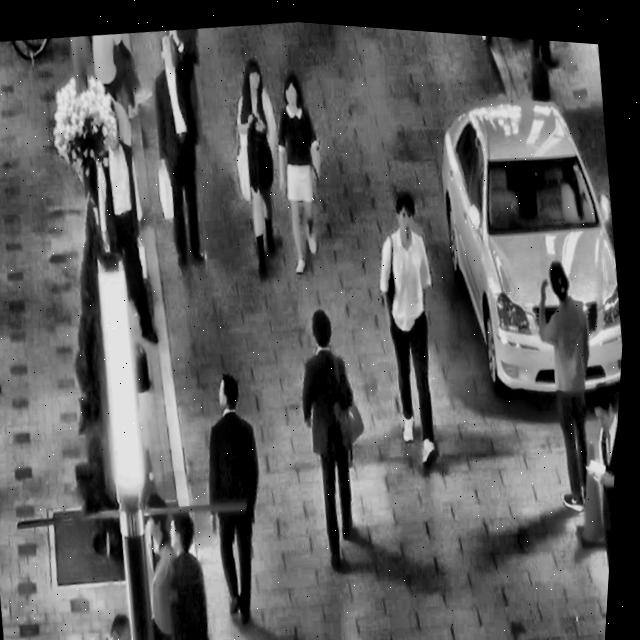light_vehicle: (414, 57, 639, 413)
